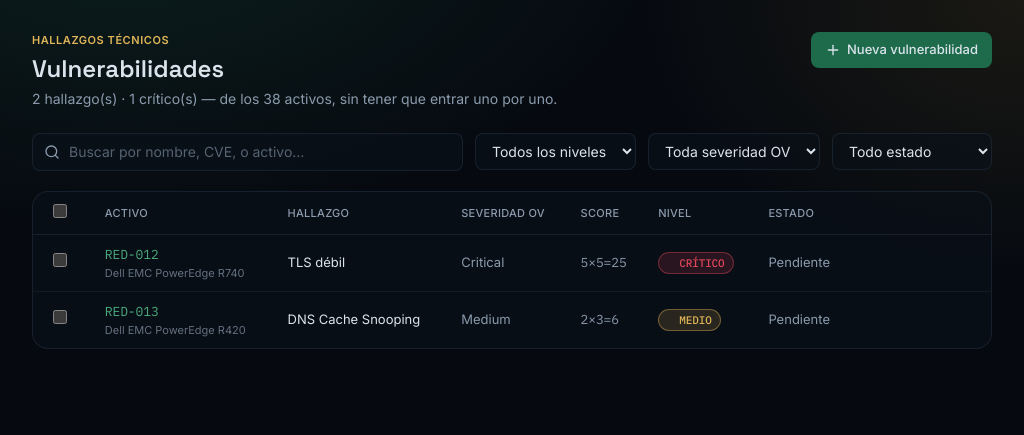
Test: Vulnerabilidades — filtros › cambiar un filtro limpia cualquier selección previa
This screenshot has width=1024, height=435.
Check: the text "TLS débil" is shown, box [276,234,449,292]
Click the checkbox next to "RED-012" at [60, 260], box [53,253,67,267]
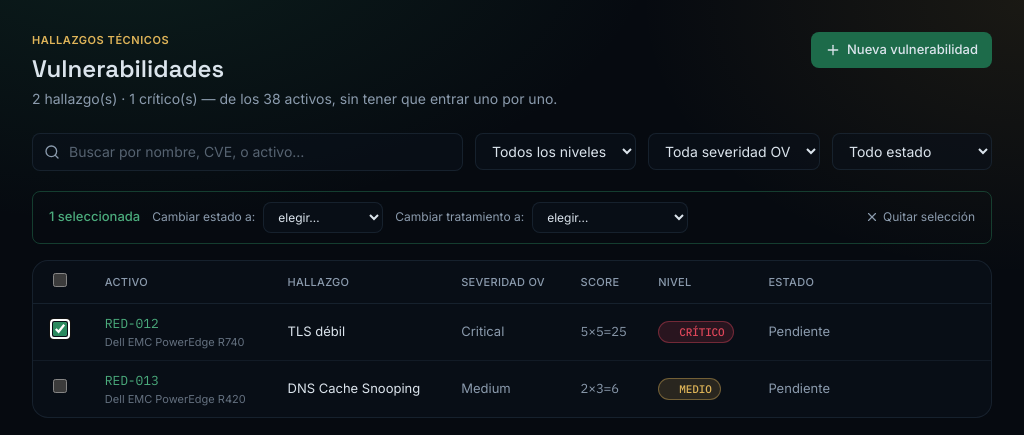
Check: the text "1 seleccionada" is shown, box [49,207,140,227]
Select "ALTO" in the 1st dropdown showing "Todos los niveles" at [556, 152], box [475,133,636,170]
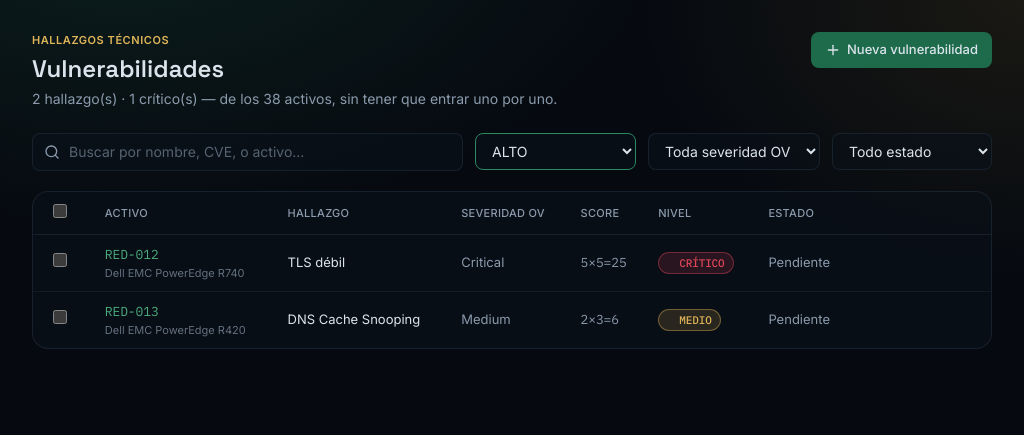
Check: the text "1 seleccionada" is gone
